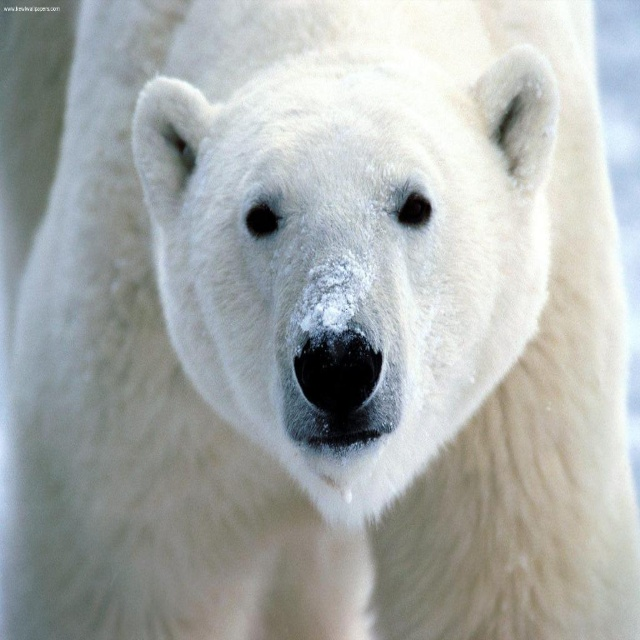Polar bear: (1, 0, 639, 639)
